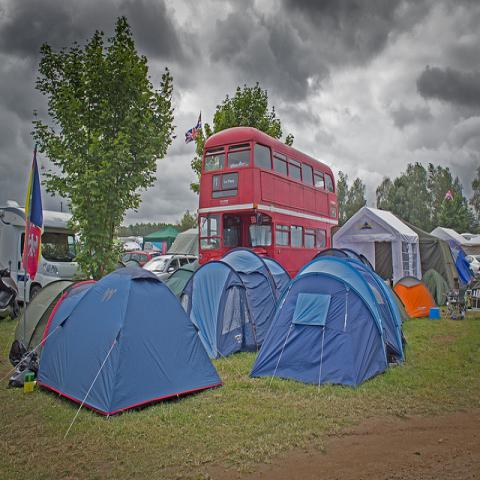bus: (197, 124, 341, 280)
car: (142, 254, 198, 281), (120, 253, 152, 266), (464, 255, 480, 281), (145, 241, 161, 252)
truck: (1, 204, 80, 304)
